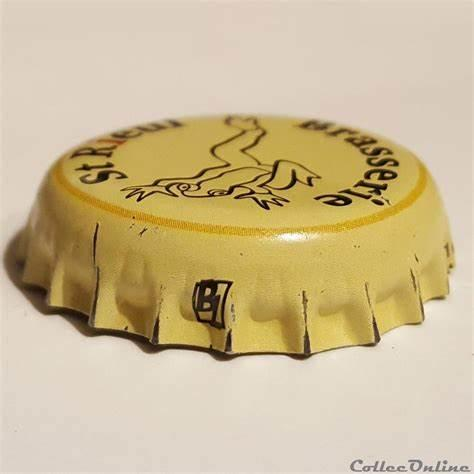metal: (22, 115, 455, 356)
